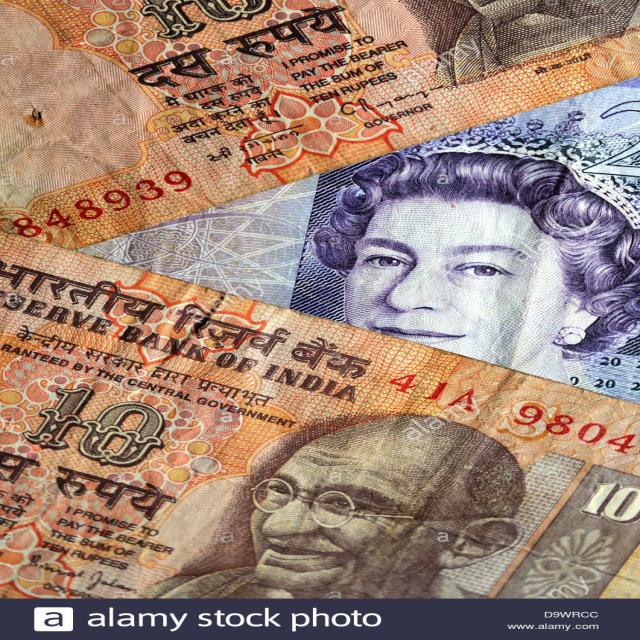10IndianRupees: (0, 243, 640, 596)
